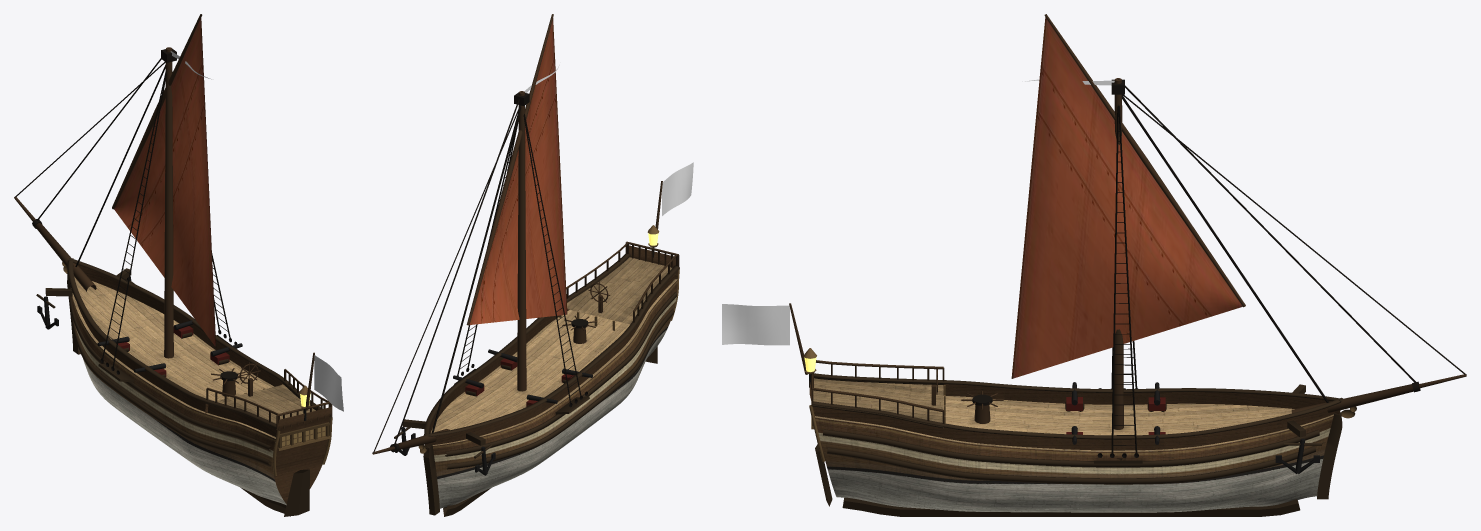
File: tartane.gltf
3 views of the same model, side by side, from view 1: azimuth 30°, elevation 25°; view 2: azimuth 150°, elevation 25°; view 3: azimuth 270°, elevation 25° (orthographic). The views are drawn at different scales.
Parts seen in each view (by area): view 1: Hull, Sail_0_lateen, Flag; view 2: Hull, Sail_0_lateen, Flag; view 3: Hull, Sail_0_lateen, Flag.
Boxes of the visible parts, x1,y1,x2,y2 form: Hull: [14, 14, 332, 516]; Sail_0_lateen: [114, 15, 216, 347]; Flag: [314, 355, 343, 411]; Hull: [372, 14, 679, 516]; Sail_0_lateen: [469, 18, 567, 324]; Flag: [662, 162, 693, 215]; Hull: [789, 14, 1466, 516]; Sail_0_lateen: [1011, 17, 1242, 378]; Flag: [722, 304, 789, 345].
Size of the model in its own units: 7.43 by 26.28 by 35.28.
Materials: 15 (4 with a texture image).
